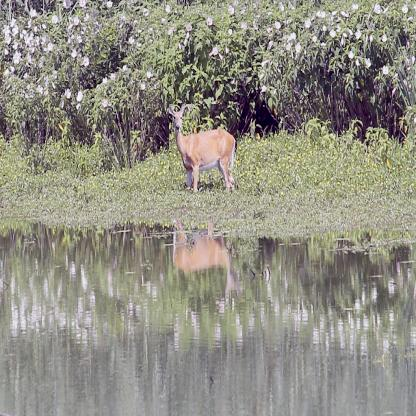Deer: (168, 104, 236, 194)
